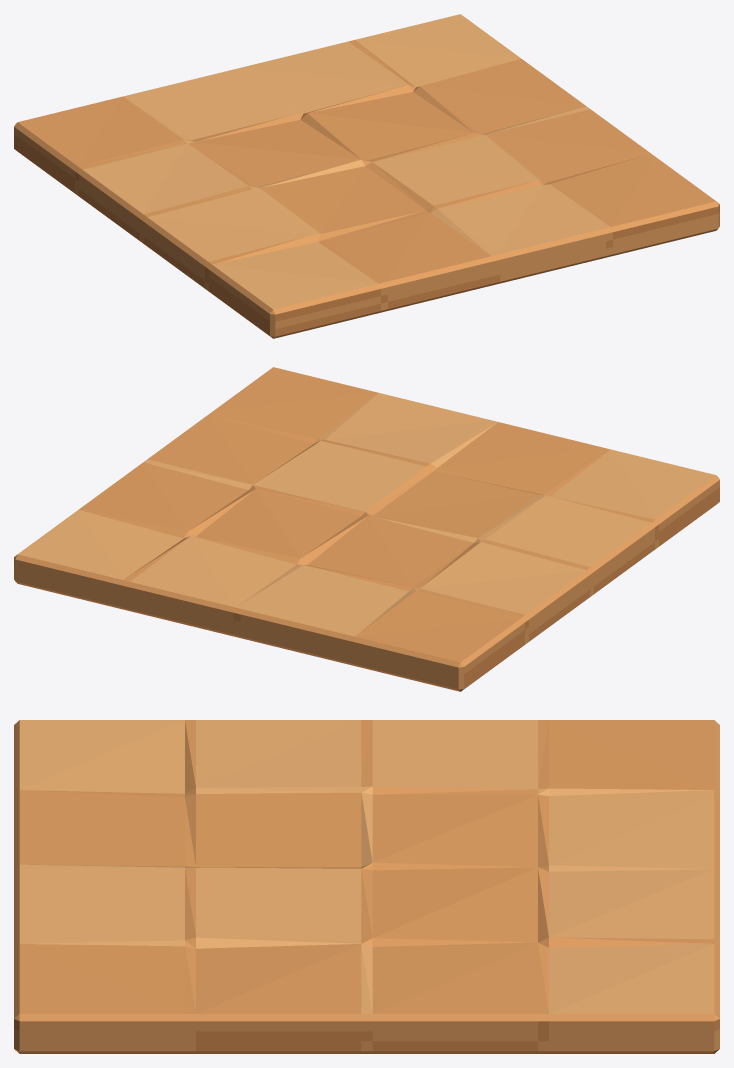
The model's file is SM_GROUND_FLAT_01.fbx.
The picture shows the model from 3 angles, top to bottom: view 1: azimuth 30°, elevation 25°; view 2: azimuth 150°, elevation 25°; view 3: azimuth 270°, elevation 25°; orthographic projection. The views are drawn at different scales.
Visible parts, largest first — view 1: GROUND_FLAT_01; view 2: GROUND_FLAT_01; view 3: GROUND_FLAT_01.
Part boxes in pixels (x1,y1,x2,y2): GROUND_FLAT_01: (14, 14, 719, 338); GROUND_FLAT_01: (14, 367, 719, 691); GROUND_FLAT_01: (14, 720, 719, 1053).
Size of the model in its own units: 4 by 4 by 0.272.
